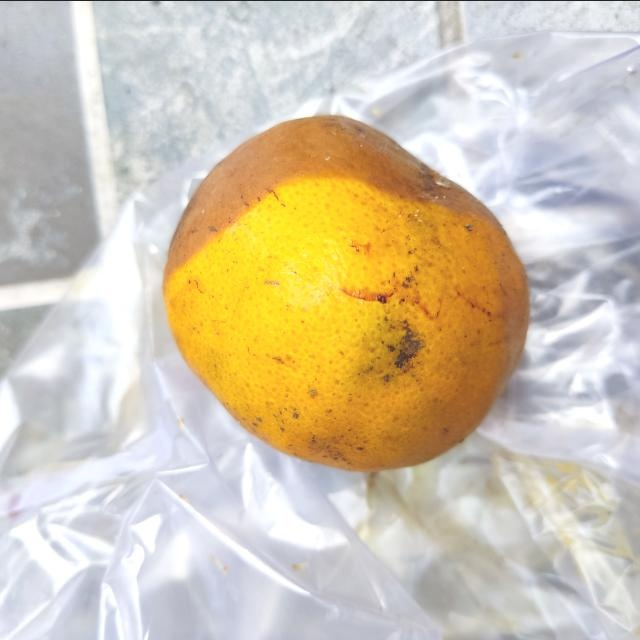agrume: (161, 107, 533, 477)
